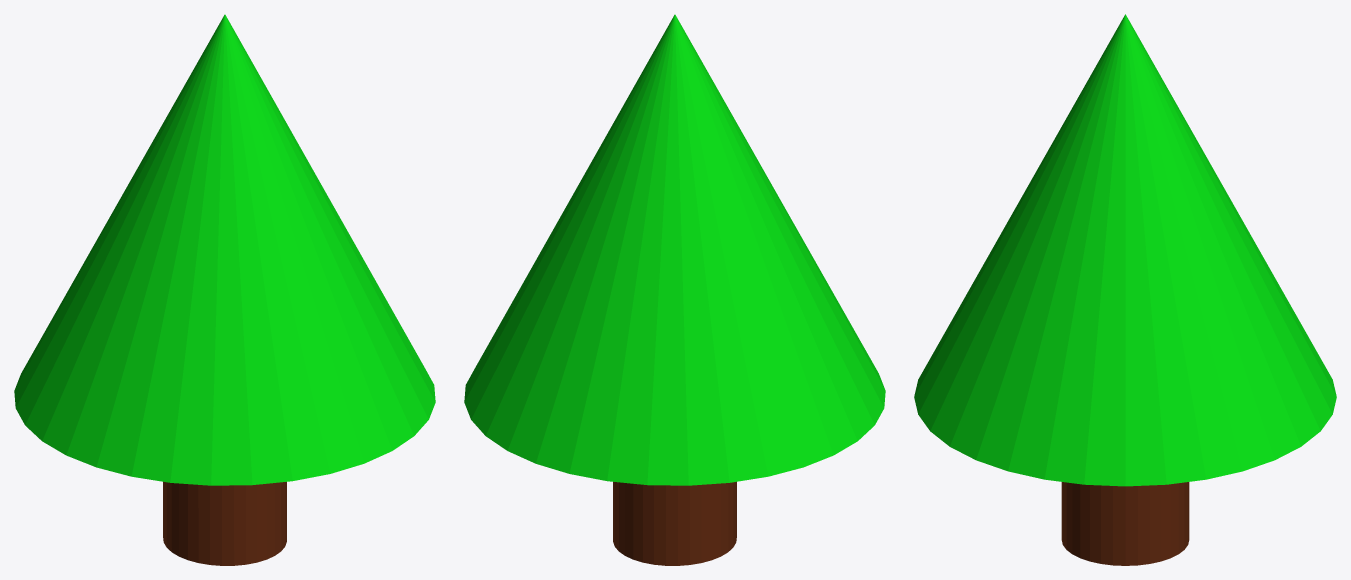
File: Tree_pine_1.fbx
3 renders of one model, left to right at view 1: azimuth 30°, elevation 25°; view 2: azimuth 150°, elevation 25°; view 3: azimuth 270°, elevation 25°, orthographic.
Visible parts, largest first — view 1: Cone, Cylinder; view 2: Cone, Cylinder; view 3: Cone, Cylinder.
Part boxes in pixels (bbox=[...]): Cone: bbox=[14, 14, 435, 485]; Cylinder: bbox=[163, 481, 286, 565]; Cone: bbox=[464, 14, 885, 485]; Cylinder: bbox=[613, 481, 736, 565]; Cone: bbox=[914, 14, 1336, 486]; Cylinder: bbox=[1061, 482, 1189, 565].
Size of the model in its own units: 406 by 557 by 406.
